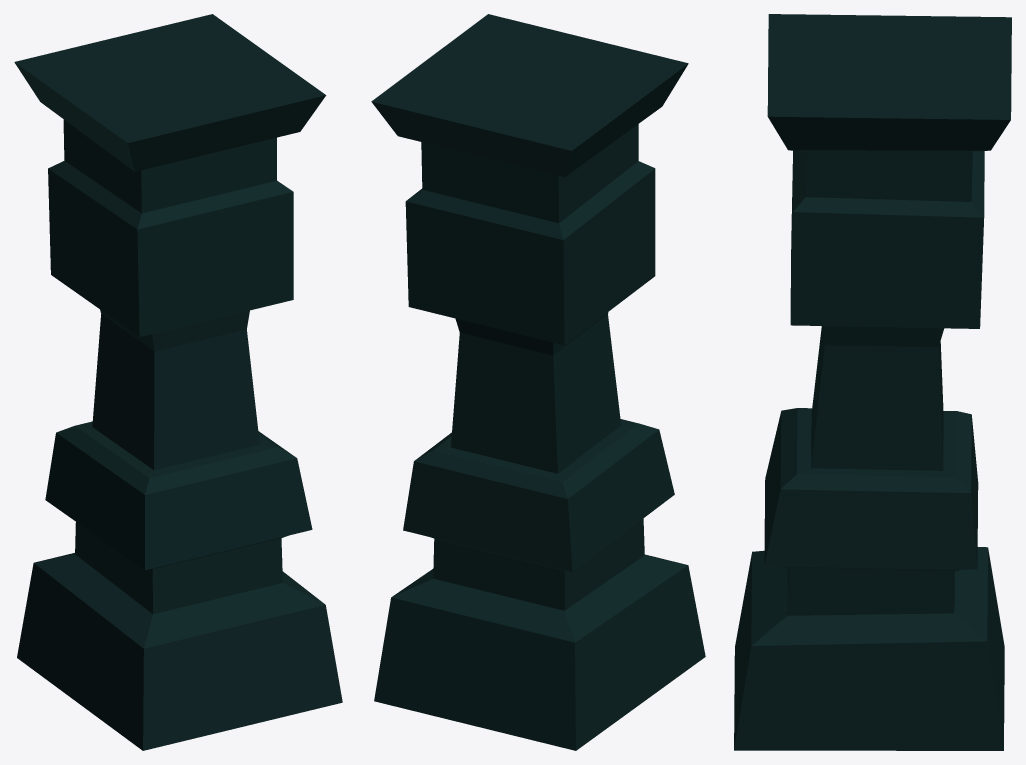
Rendered from column002_stone_0.095_lev1.glb.
The picture shows the model from 3 angles, left to right: view 1: azimuth 30°, elevation 25°; view 2: azimuth 150°, elevation 25°; view 3: azimuth 270°, elevation 25°; orthographic projection. The views are drawn at different scales.
Visible parts, largest first — view 1: column002_stone_0.095_lev1; view 2: column002_stone_0.095_lev1; view 3: column002_stone_0.095_lev1.
Part boxes in pixels (left/top/right/bottom): column002_stone_0.095_lev1: left=14, top=14, right=342, bottom=750; column002_stone_0.095_lev1: left=371, top=14, right=705, bottom=750; column002_stone_0.095_lev1: left=734, top=14, right=1011, bottom=750.
Size of the model in its own units: 0.5532 by 1.57 by 0.6259.
